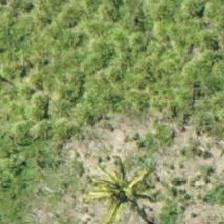coconut_tree: (82, 145, 172, 223)
